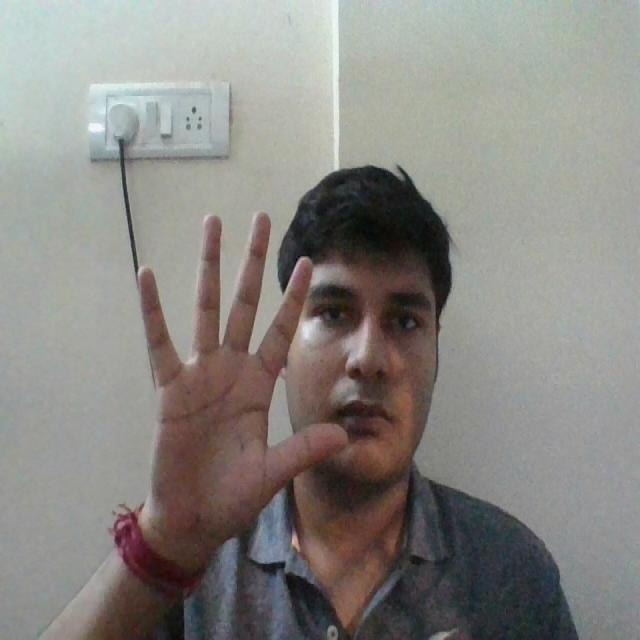Hello: (136, 220, 358, 573)
